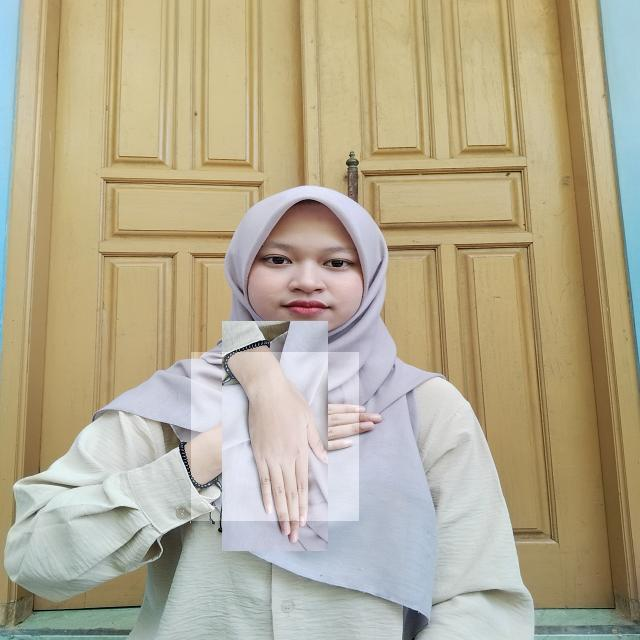tolong: (191, 352, 359, 521)
